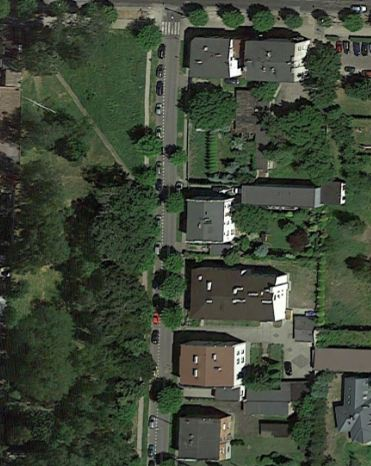block of flats: (187, 265, 292, 323), (238, 35, 317, 85), (177, 338, 249, 390), (185, 33, 247, 81), (183, 193, 239, 245), (177, 413, 233, 460)
family house: (334, 373, 371, 450)
garage: (238, 375, 320, 417), (235, 180, 347, 209), (310, 346, 371, 377)
